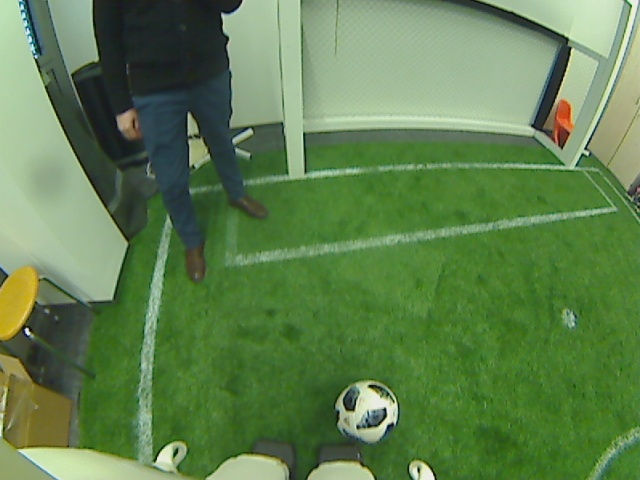ball: (332, 376, 398, 445)
